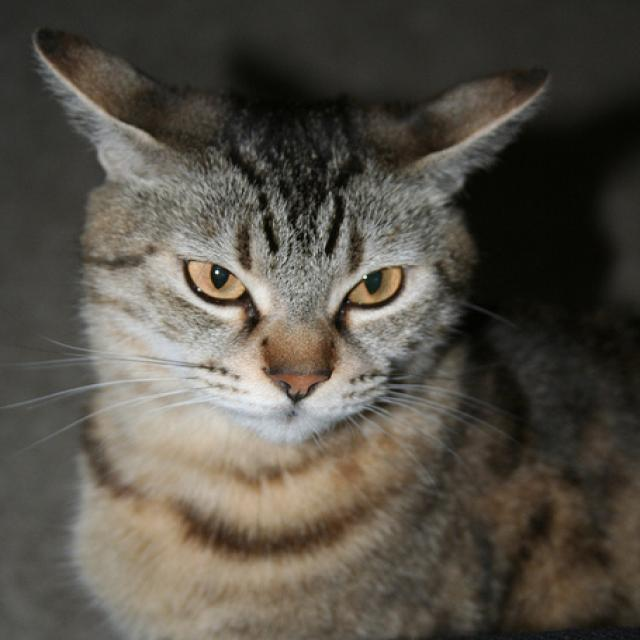left eye: (341, 262, 406, 311)
